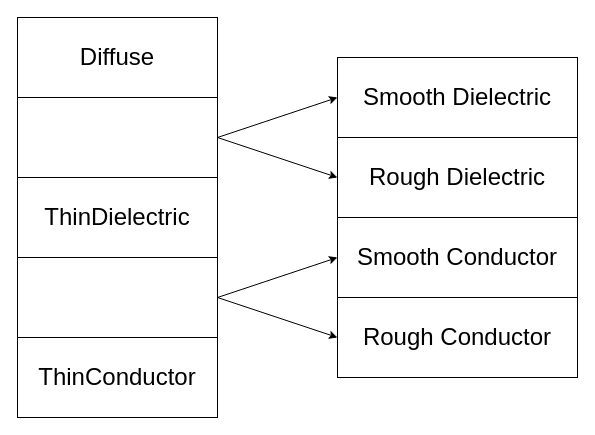
Image size: 595x435. Some labels were removed from this diagram. The centre of each missing label's shape, as x and y in pixels:
"Conductor" belongs at [117,297].
"Dielectric" belongs at [117,137].
